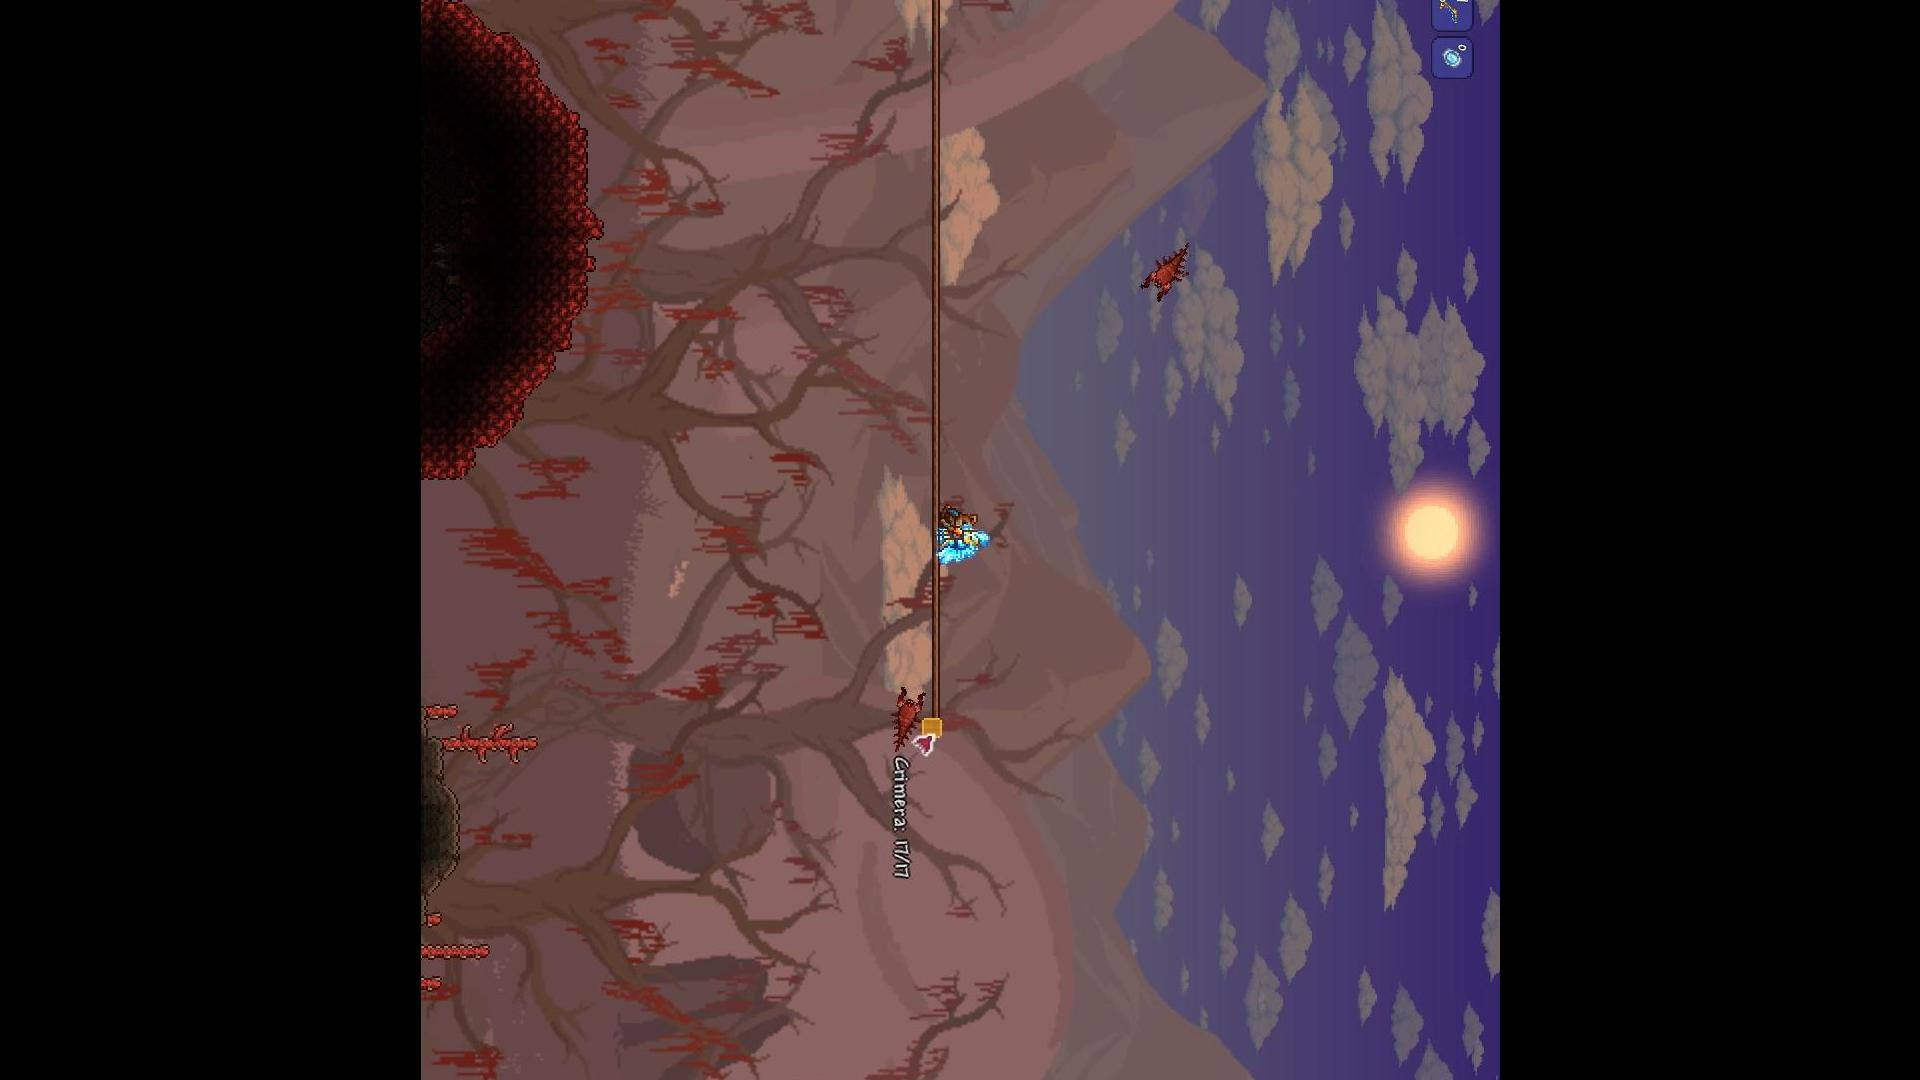crimera: (1138, 237, 1195, 302), (889, 680, 928, 749)
